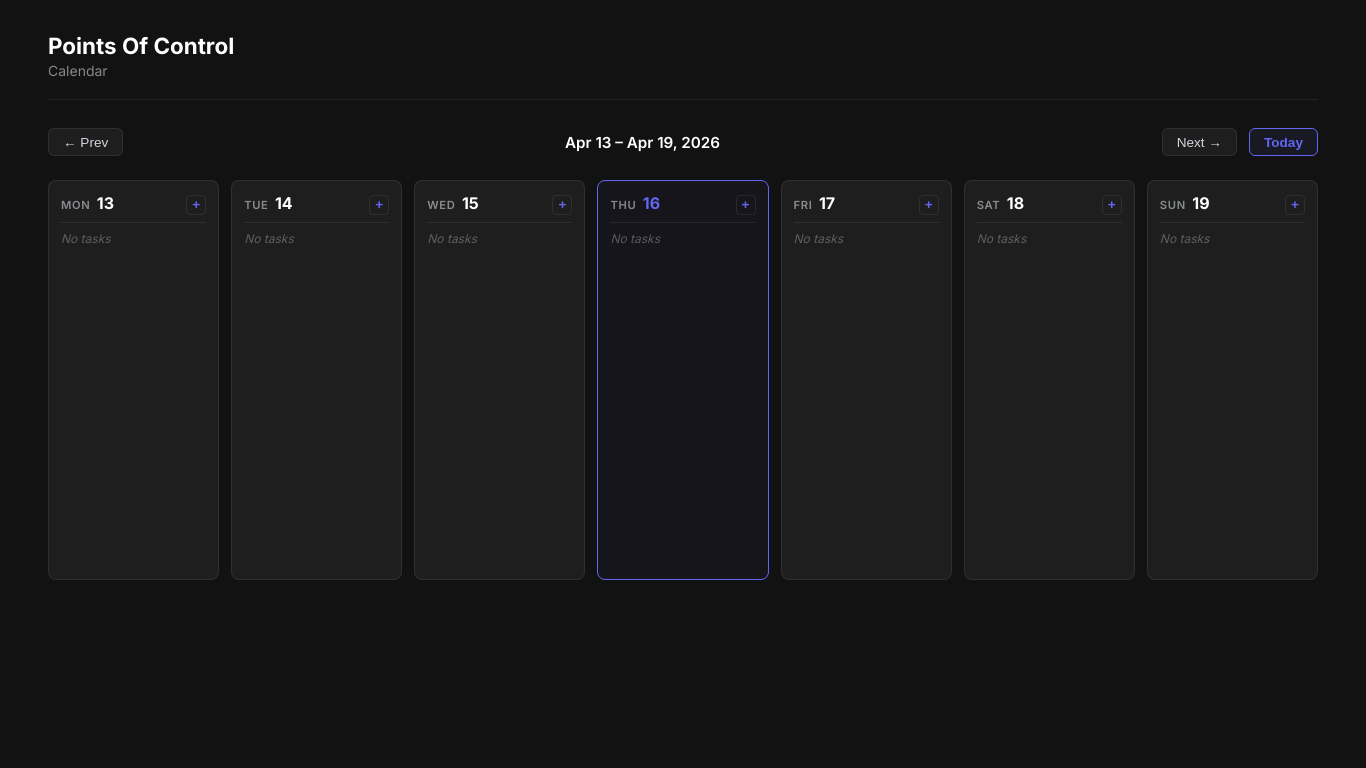
Calendar — task management (U10b) › shows validation error when saving with empty title
Expected: the text "Mon" is shown, [61,198,90,212]
Click the button titled "Add task" in the row of "Mon". click: click(196, 205)
box: [186,195,206,215]
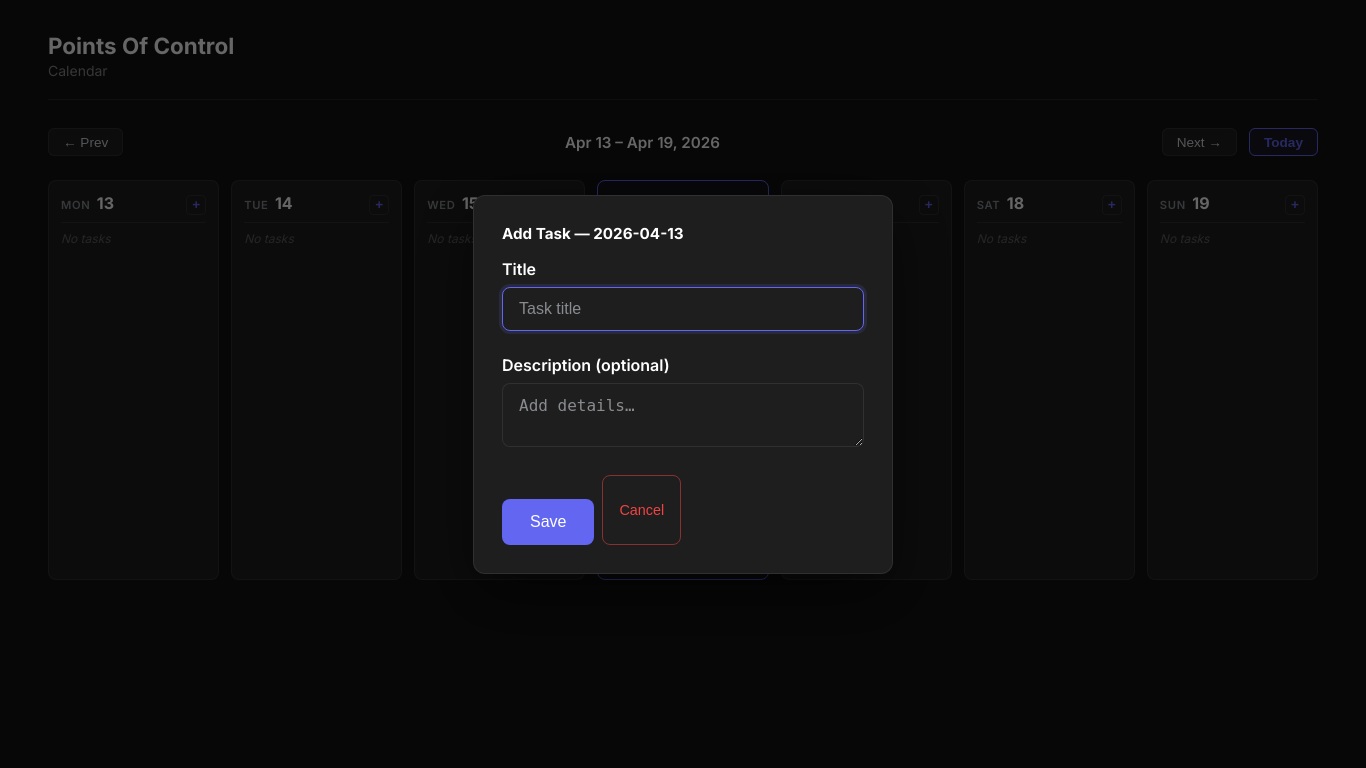
Click the button "Save". click: click(548, 522)
box: [502,498,594,544]
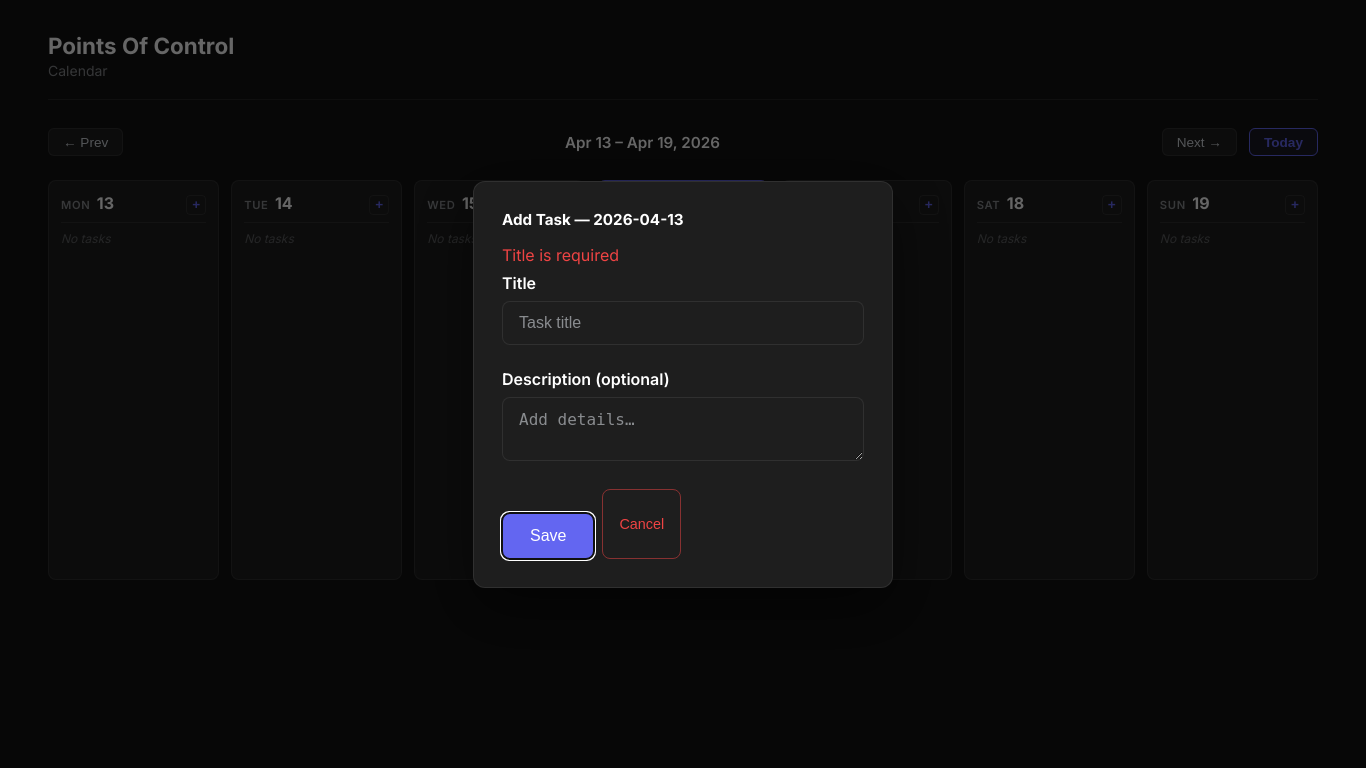
Result: the text "Title is required" is shown at [502,244,619,264]
